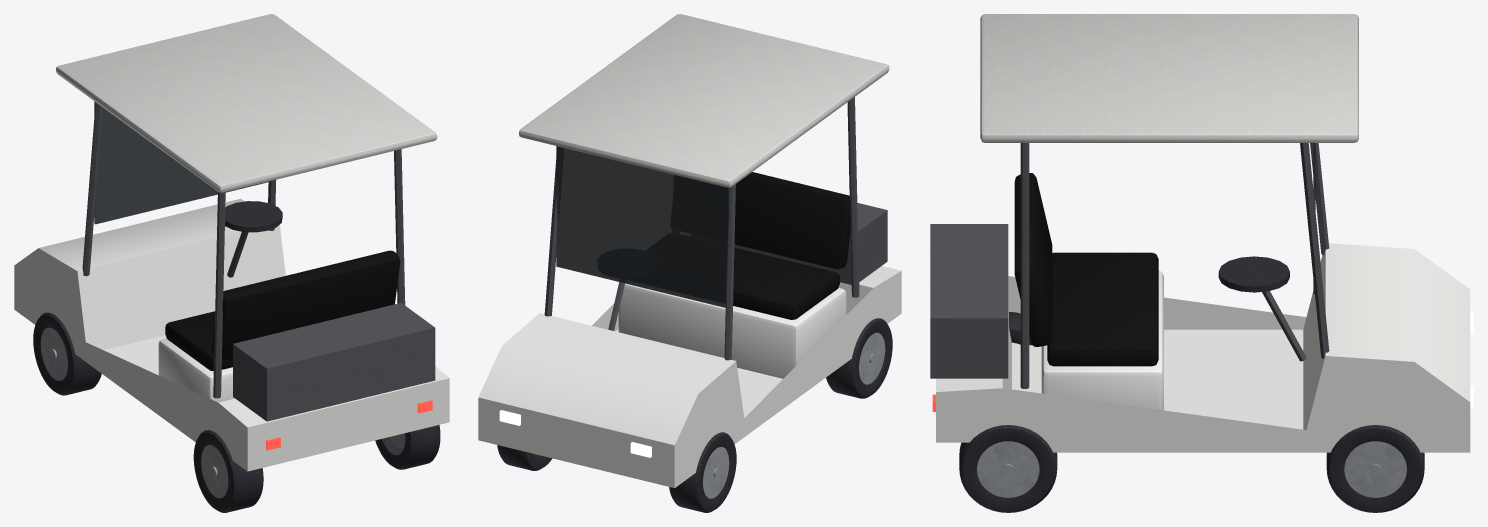
Rendered from golf_buggy_white.gltf.
3 renders of one model, left to right at view 1: azimuth 30°, elevation 25°; view 2: azimuth 150°, elevation 25°; view 3: azimuth 270°, elevation 25°, orthographic. The views are drawn at different scales.
Visible parts, largest first — view 1: golf_buggy_white; view 2: golf_buggy_white; view 3: golf_buggy_white.
Part boxes in pixels (x1,y1,x2,y2): golf_buggy_white: (14, 14, 449, 512); golf_buggy_white: (478, 14, 901, 512); golf_buggy_white: (930, 14, 1473, 512).
Bounding box in the file's own units: 1.3 × 1.9 × 2.44.
Materials: 12 (7 with a texture image).
